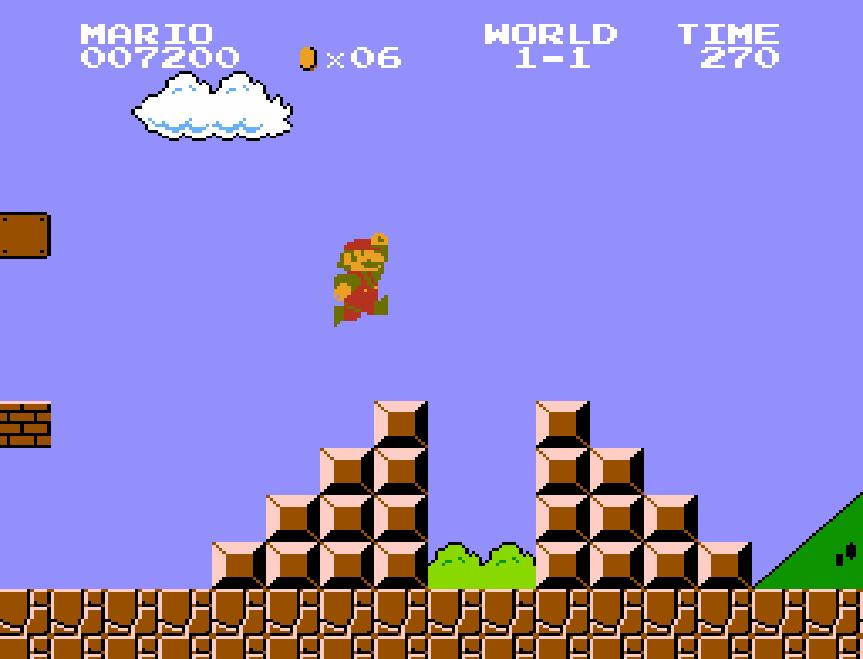big_mario: (332, 230, 390, 328)
